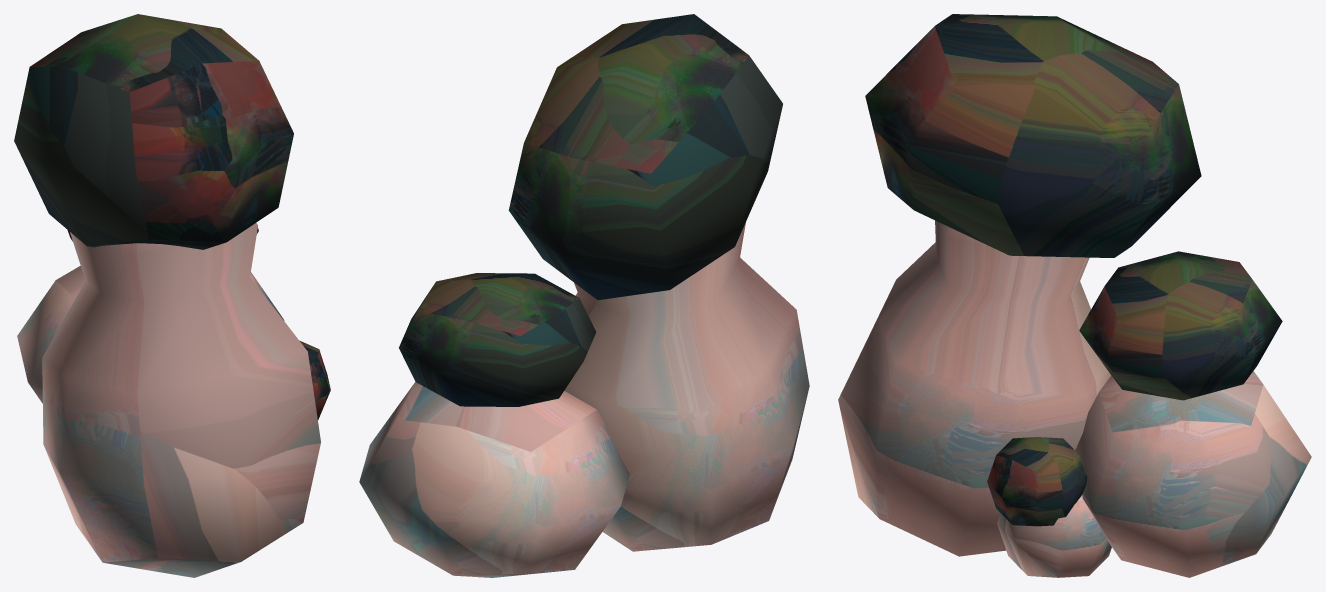
The model's file is mushroom_VAR3.fbx.
3 views of the same model, side by side, from view 1: azimuth 30°, elevation 25°; view 2: azimuth 150°, elevation 25°; view 3: azimuth 270°, elevation 25° (orthographic). The views are drawn at different scales.
Parts seen in each view (by area): view 1: Cube, Cube.005, Cube.002, Cube.003; view 2: Cube.005, Cube, Cube.002, Cube.004; view 3: Cube.005, Cube, Cube.002, Cube.004, Cube.003, Cube.001.
Part boxes in pixels (x1,y1,x2,y2): Cube: [42, 223, 320, 577]; Cube.005: [14, 14, 293, 249]; Cube.002: [17, 266, 284, 403]; Cube.003: [300, 341, 330, 419]; Cube.005: [508, 14, 782, 300]; Cube: [564, 222, 809, 551]; Cube.002: [359, 382, 629, 577]; Cube.004: [399, 273, 596, 406]; Cube.005: [865, 14, 1201, 257]; Cube: [838, 220, 1111, 556]; Cube.002: [1075, 371, 1311, 577]; Cube.004: [1079, 251, 1282, 400]; Cube.003: [987, 437, 1087, 526]; Cube.001: [997, 495, 1111, 577].
Bounding box in the file's own units: 728 × 1109 × 910.
